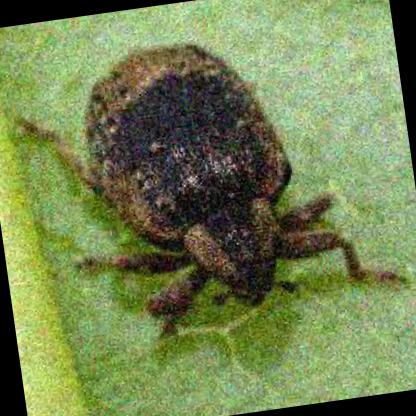ash weevil: (81, 41, 399, 315)
